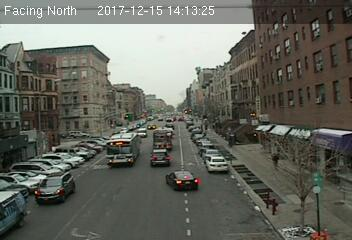bus: (105, 131, 141, 168)
car: (34, 171, 77, 203), (166, 170, 197, 190), (204, 156, 229, 172), (149, 149, 170, 166)
truck: (1, 189, 26, 234), (152, 131, 172, 149)
